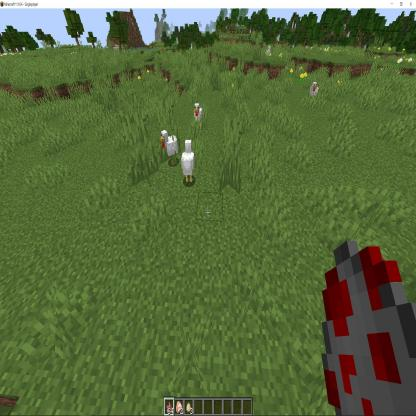minecraft-pigs: (160, 128, 180, 170), (181, 140, 196, 186), (308, 80, 320, 105), (192, 105, 204, 129), (266, 45, 272, 61)
